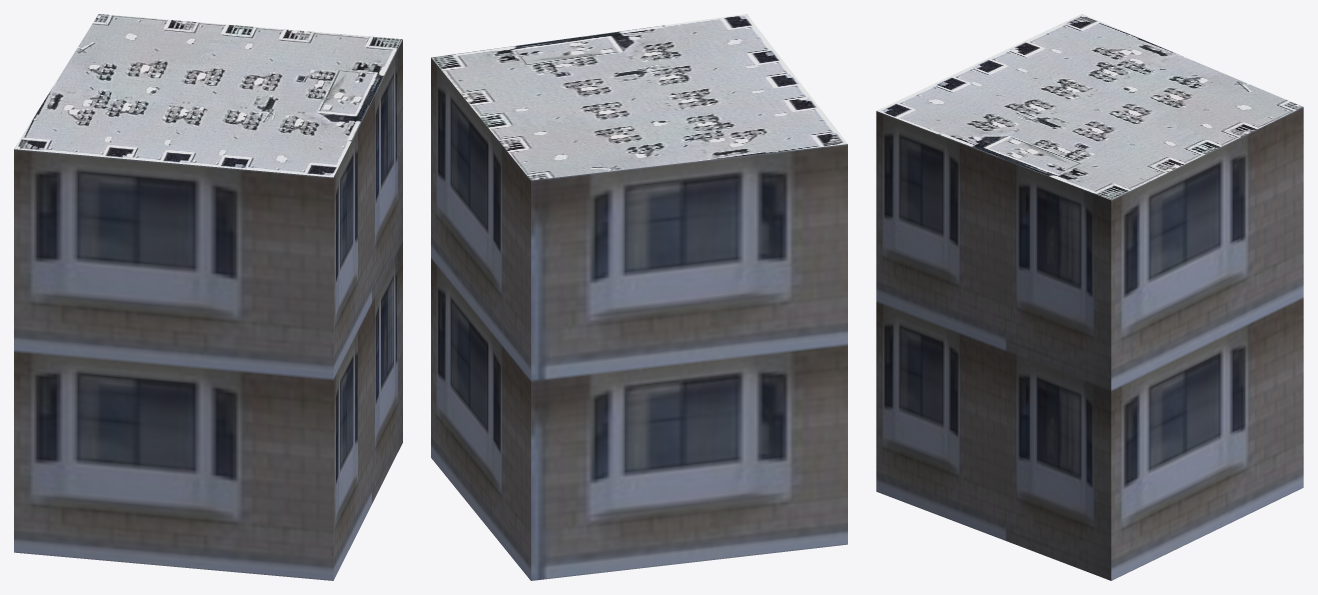
File: ResTex__4166.fbx
3 renders of one model, left to right at view 1: azimuth 30°, elevation 25°; view 2: azimuth 150°, elevation 25°; view 3: azimuth 270°, elevation 25°, orthographic. The views are drawn at different scales.
Visible parts, largest first — view 1: CityEngineMaterial_3_m, CityEngineMaterial_m; view 2: CityEngineMaterial_3_m, CityEngineMaterial_m; view 3: CityEngineMaterial_3_m, CityEngineMaterial_m.
Boxes of the visible parts, <box> form: CityEngineMaterial_3_m: <box>14,39,402,580</box>; CityEngineMaterial_m: <box>14,14,402,177</box>; CityEngineMaterial_3_m: <box>431,57,847,580</box>; CityEngineMaterial_m: <box>431,14,847,180</box>; CityEngineMaterial_3_m: <box>876,107,1303,580</box>; CityEngineMaterial_m: <box>877,14,1302,199</box>.
Bounding box in the file's own units: 6.29 × 6 × 6.1.
Materials: 2 (2 with a texture image).
